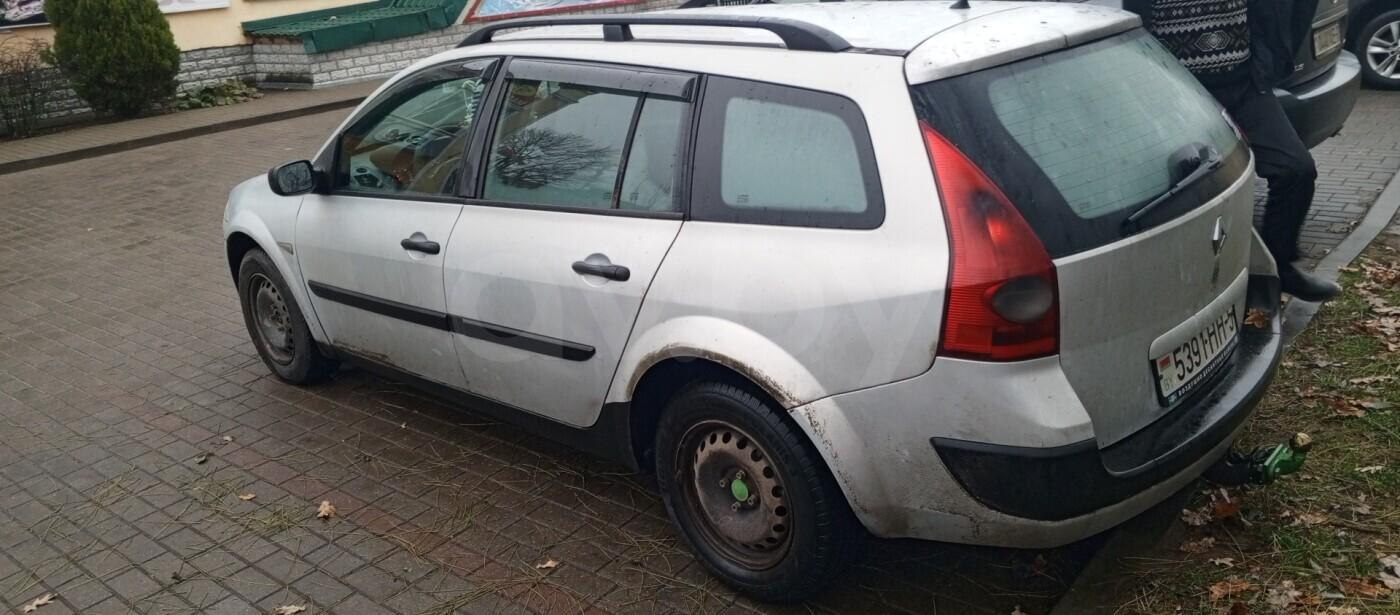Megane_2002-2006: (221, 9, 1287, 585)
